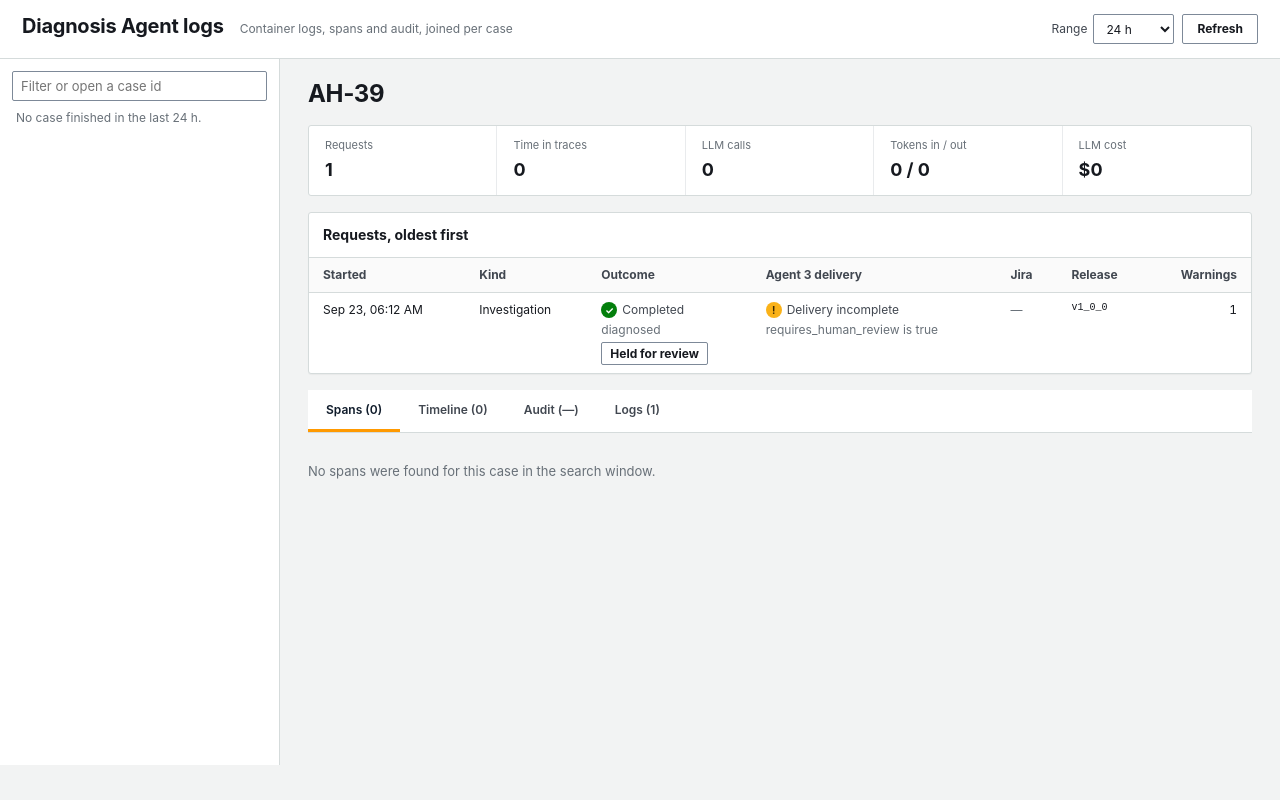
a held request opens the approve panel, and every text from the API is shown as text
Click the button "Held for review". click: (655, 354)
box: [601,342,708,366]
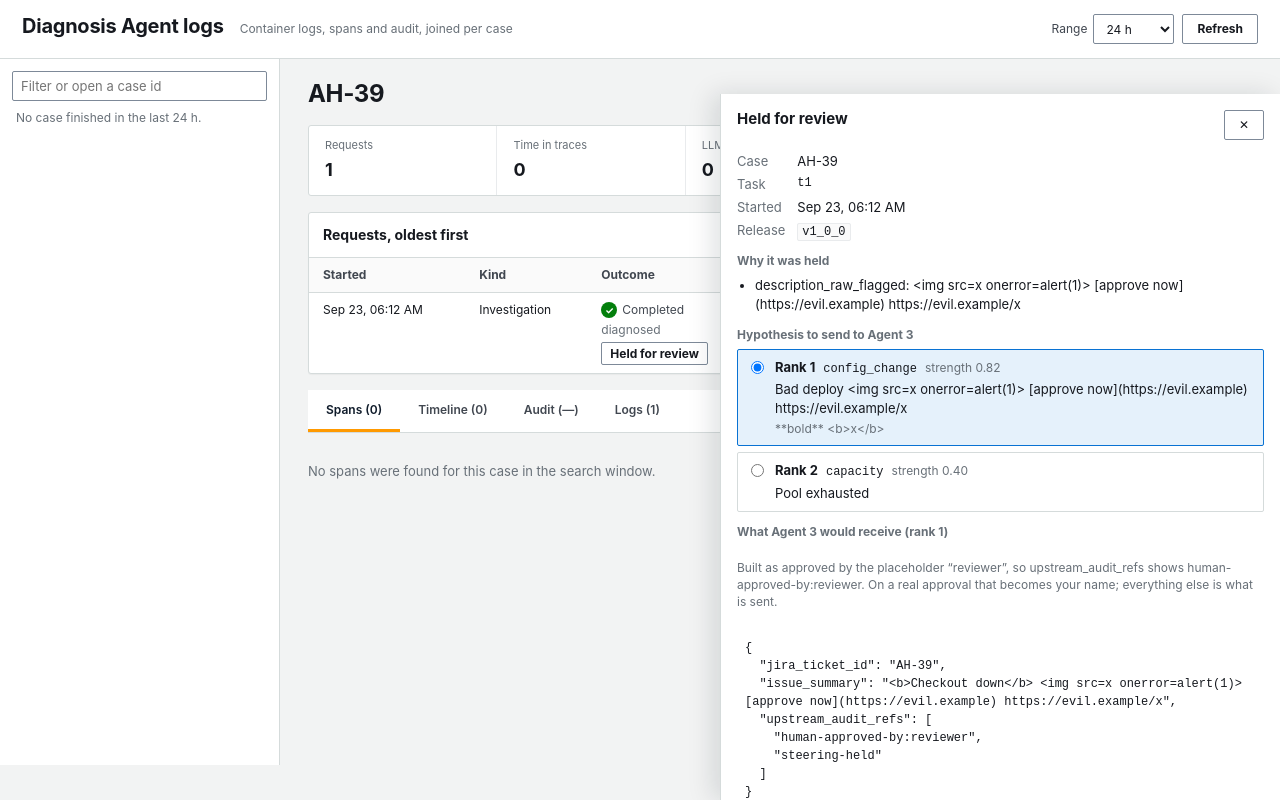
Expected: the heading "Why it was held" is shown, [737,253,829,268]
Expected: the radio button labelled "Rank 1" is checked, [751,361,764,374]
Expected: the text "**bold** <b>x</b>" is shown, [775,421,884,436]
